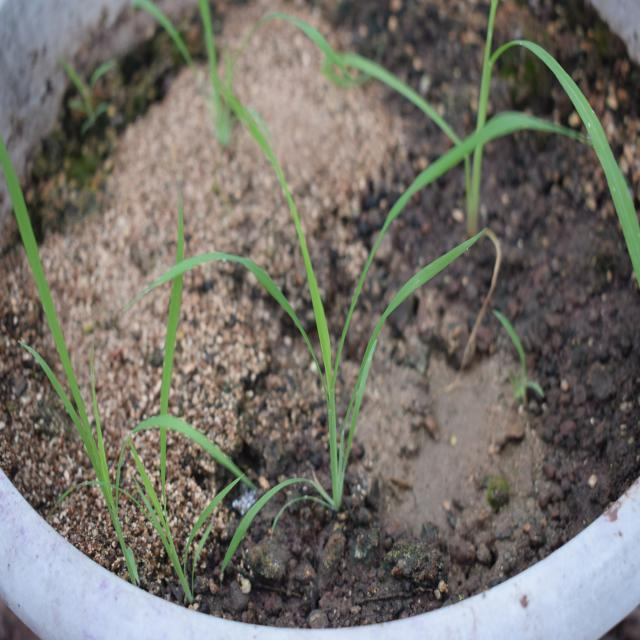barnyard_grass: (112, 85, 466, 501)
